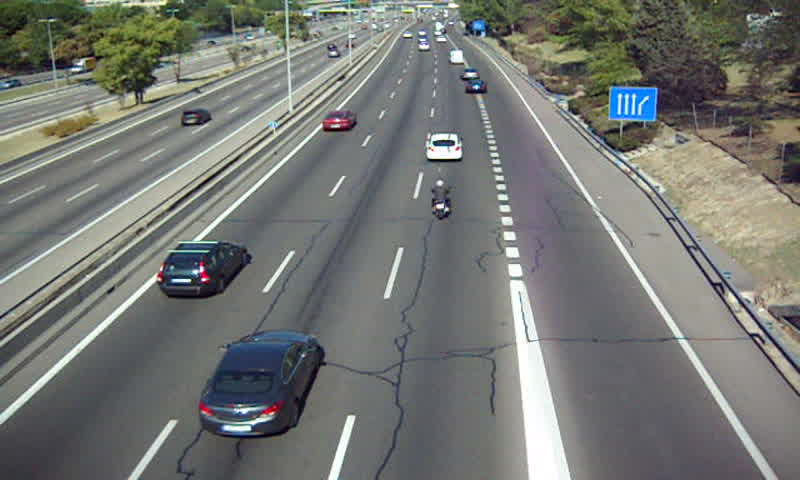car: (200, 332, 320, 436), (157, 242, 248, 297), (425, 134, 462, 163), (322, 110, 356, 132), (464, 80, 488, 94), (460, 67, 480, 82)
motorcycle: (430, 178, 451, 222)
van: (449, 49, 464, 64)
